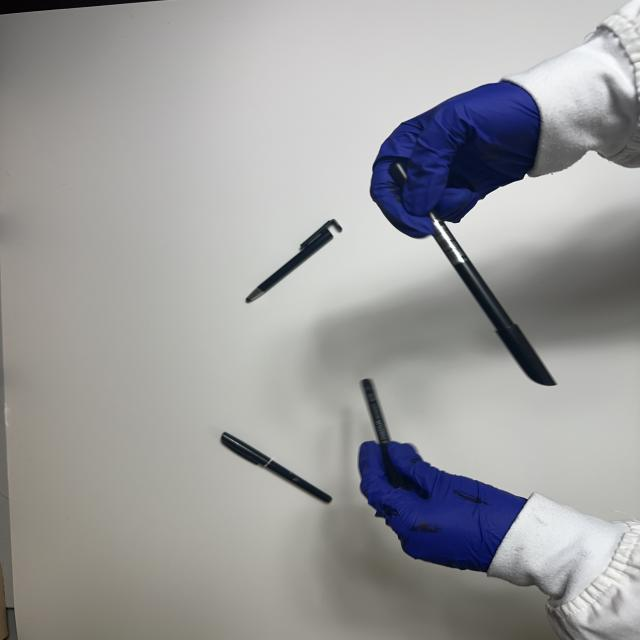gloves_contaminated: (371, 83, 540, 238), (360, 442, 526, 571)
